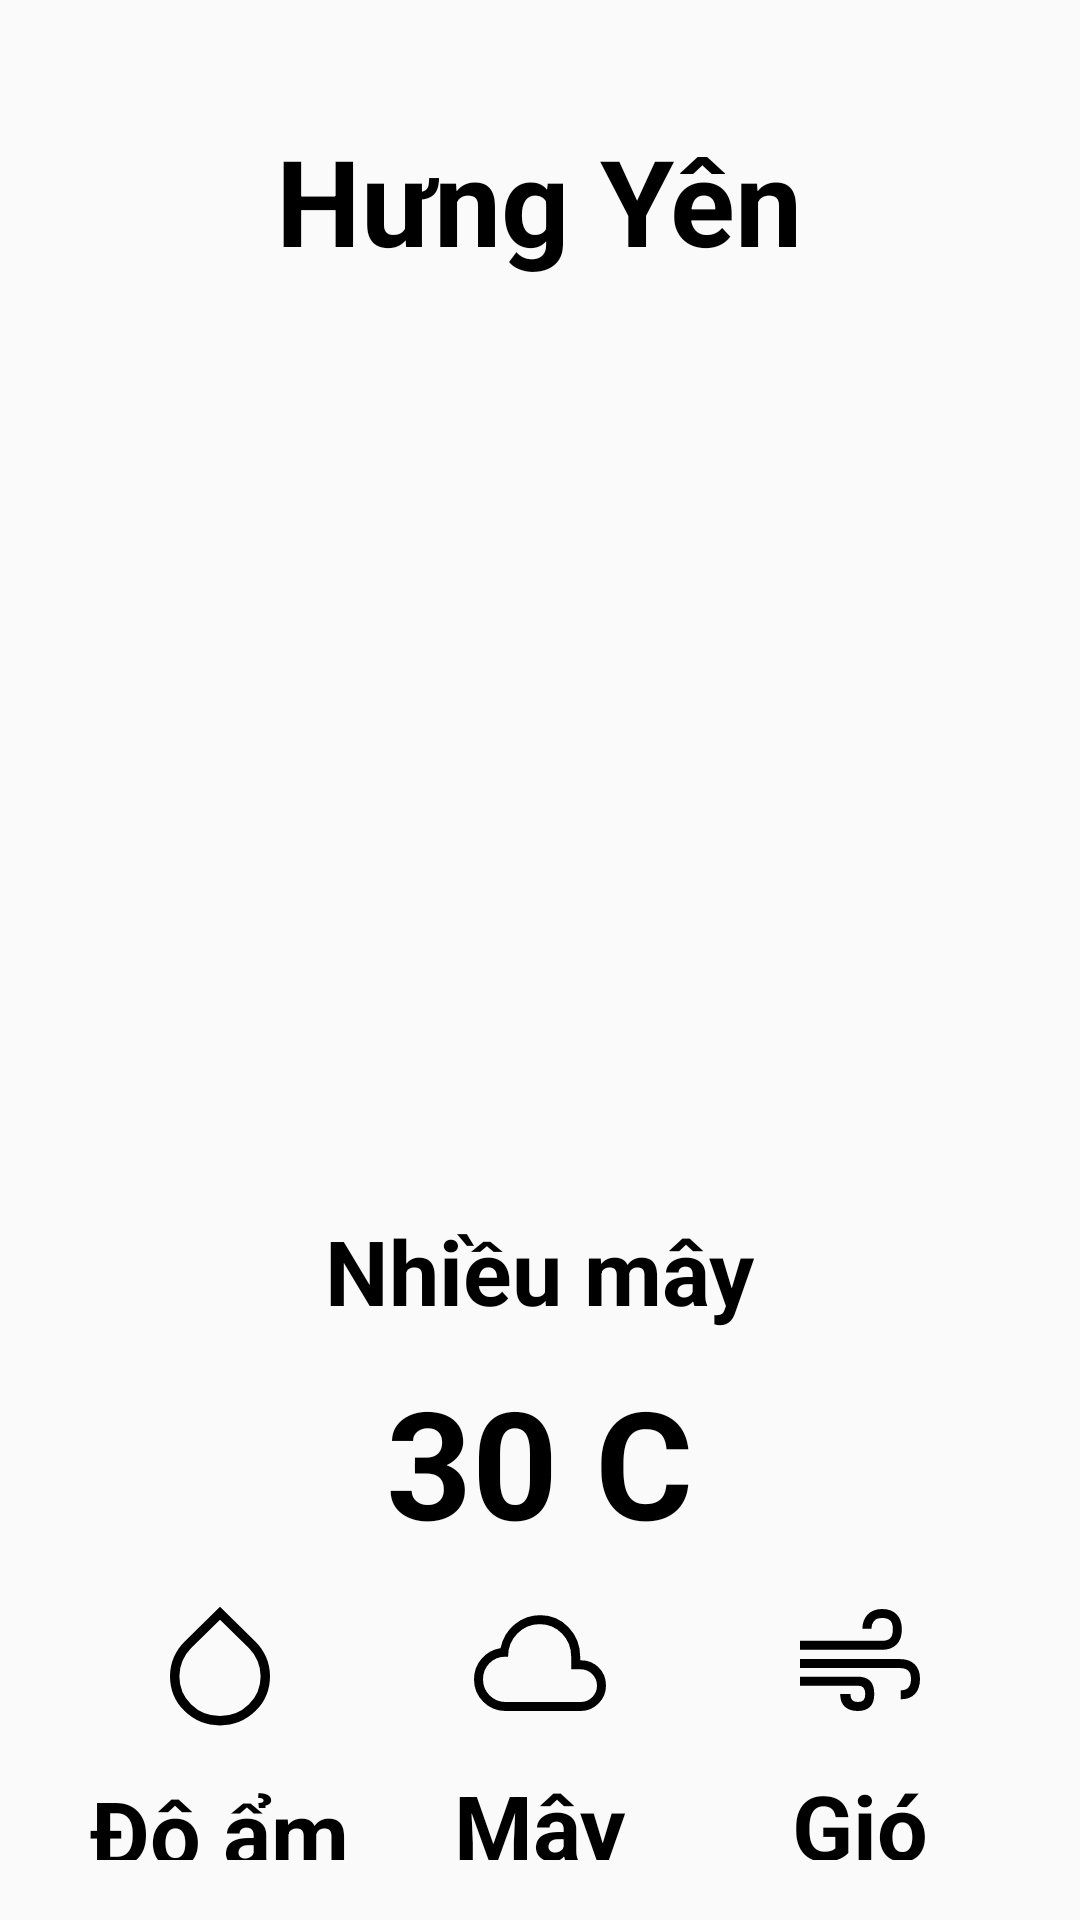

Point at icon controls on the screen. Image size 1080px×1920px, points as point (x, y).
gio: point (860, 1660)
may: point (540, 1663)
